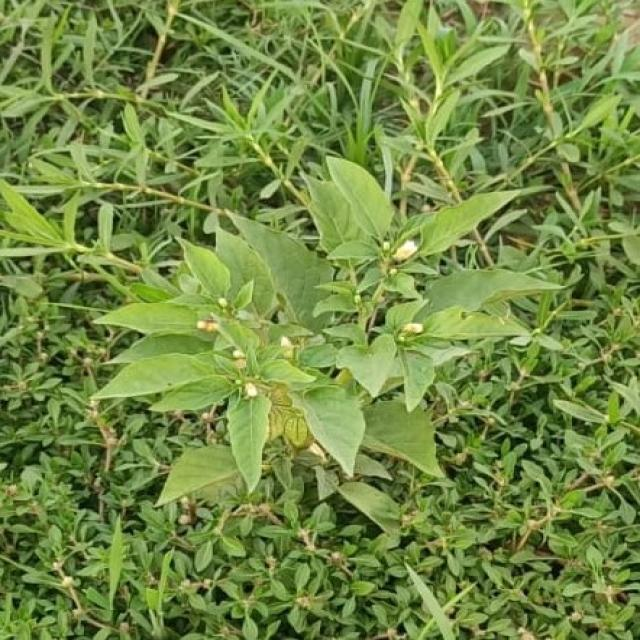weed: (97, 157, 565, 534)
